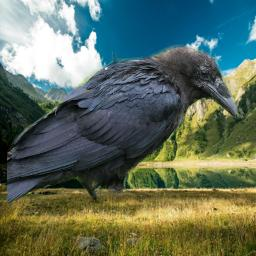Crow: (7, 44, 240, 205)
